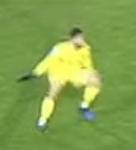goalkeeper: (11, 16, 109, 137)
